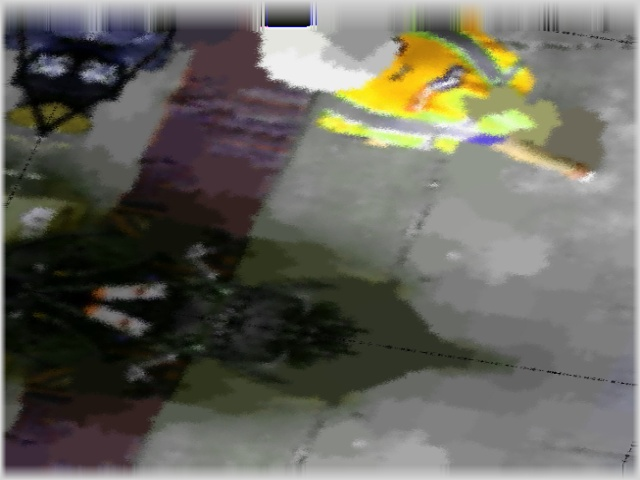three: (299, 39, 360, 74)
